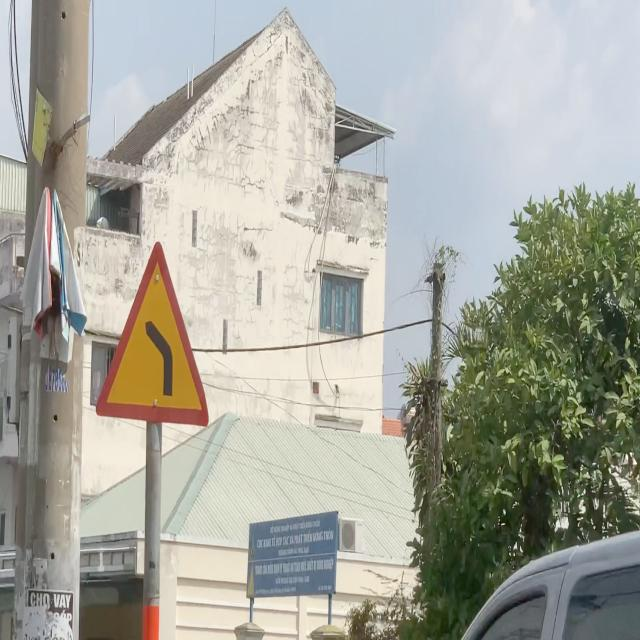Nguy hiem: (84, 214, 218, 438)
